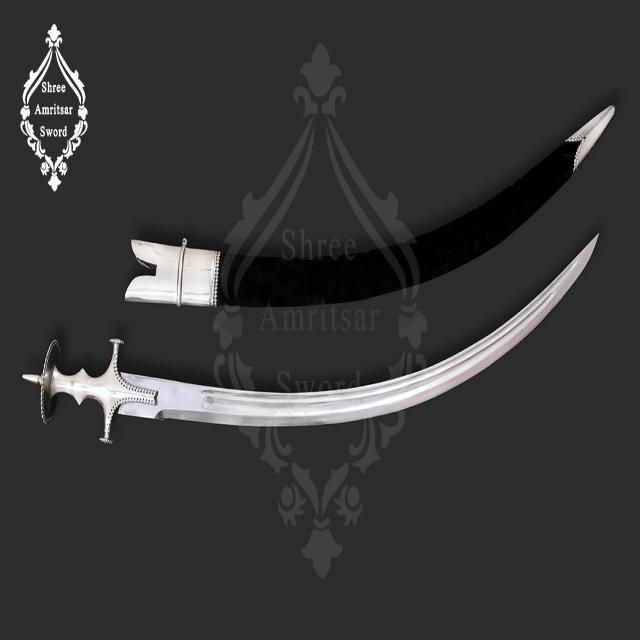cutlass: (8, 217, 611, 449)
scabbard: (113, 82, 631, 314)
